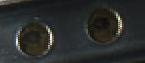joints: (14, 17, 55, 59), (83, 4, 124, 45)
